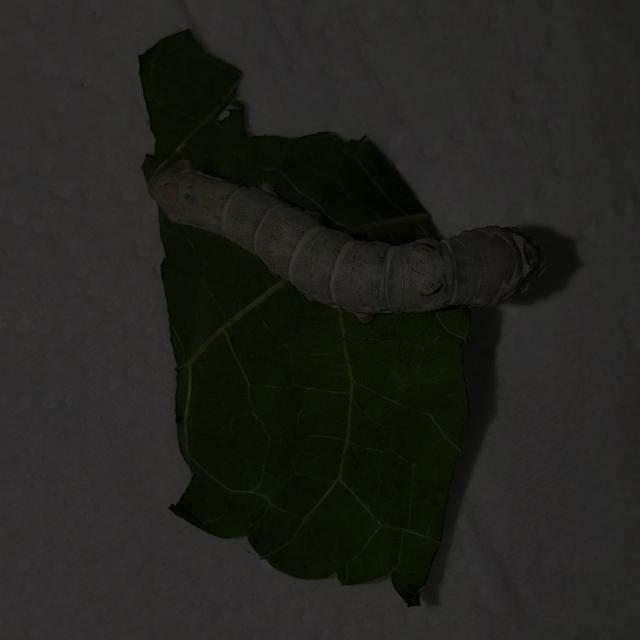Healthy: (145, 153, 551, 324)
